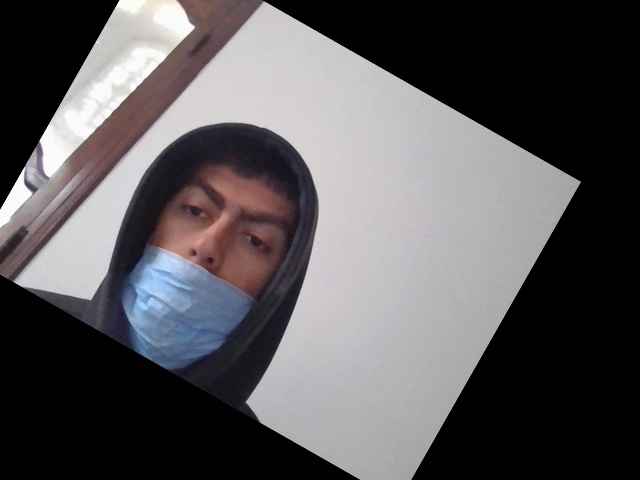mask_weared_incorrect: (123, 159, 296, 366)
